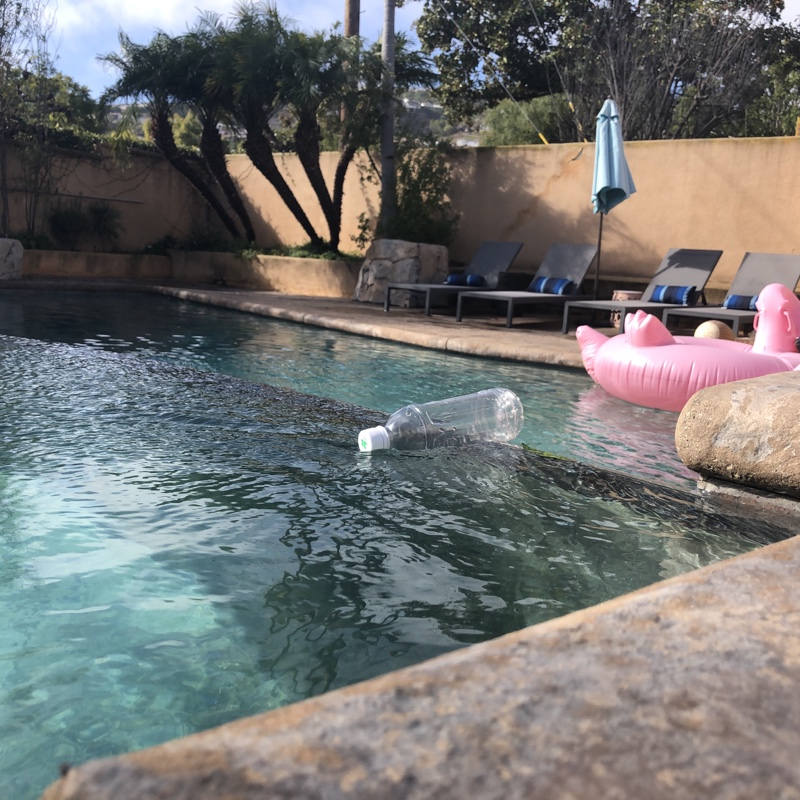Plastic Bottle: (354, 384, 530, 454)
